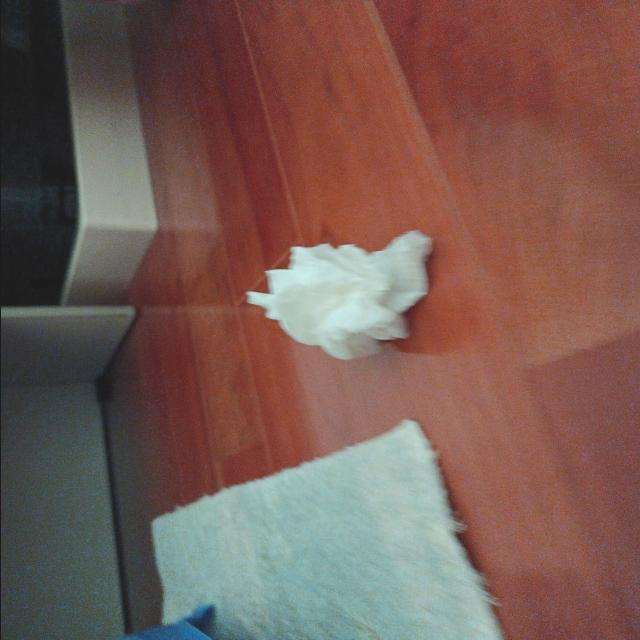Paper: (246, 225, 437, 354)
